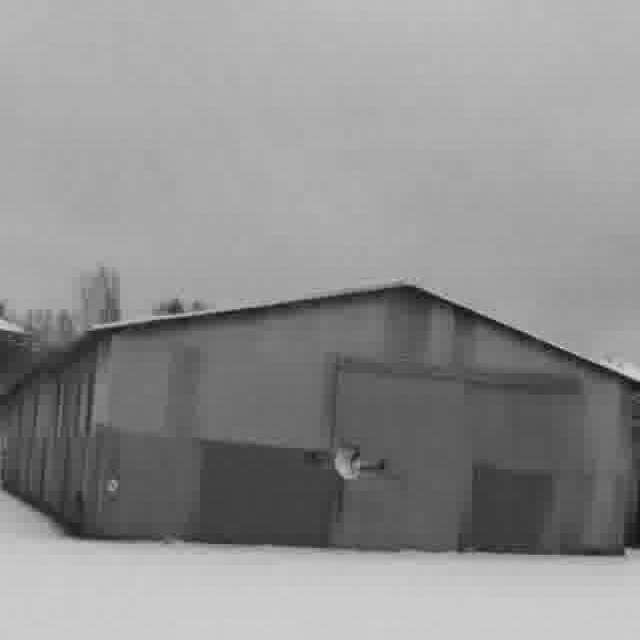drone: (300, 412, 407, 516)
